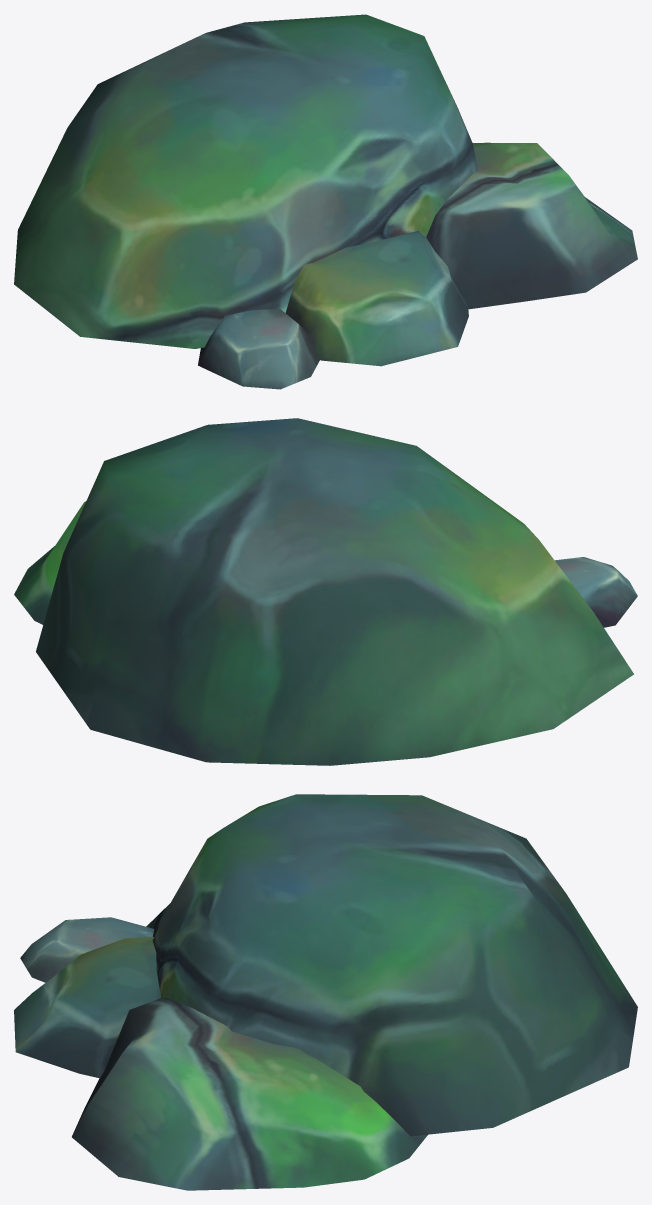
Rendered from Rock.fbx.
3 renders of one model, top to bottom at view 1: azimuth 30°, elevation 25°; view 2: azimuth 150°, elevation 25°; view 3: azimuth 270°, elevation 25°, orthographic. The views are drawn at different scales.
Parts seen in each view (by area): view 1: rock; view 2: rock; view 3: rock.
Boxes of the visible parts, x1=… form: rock: x1=14, y1=14, x2=637, y2=389; rock: x1=14, y1=418, x2=637, y2=765; rock: x1=14, y1=794, x2=637, y2=1190.
Size of the model in its own units: 26 by 8.63 by 23.67.
Materials: 1 (1 with a texture image).
